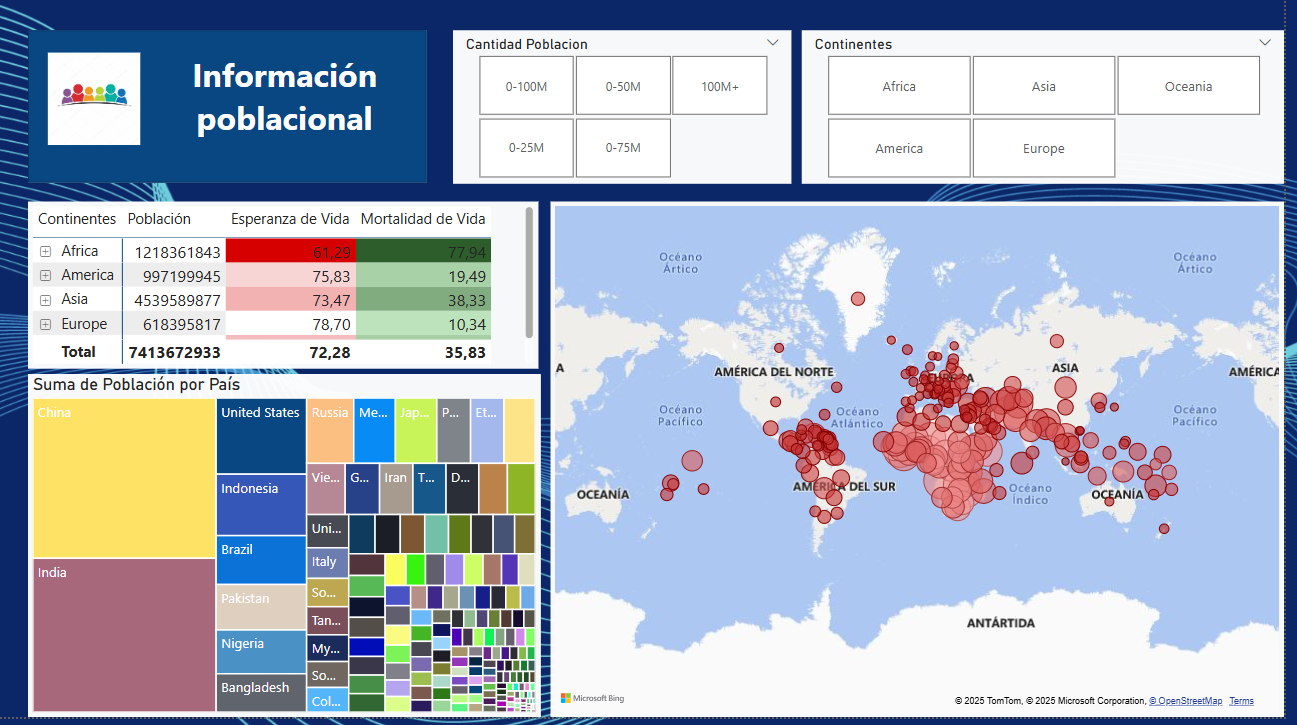

Layout of this report page (visuals, bound fields, positions):
{"tool":"powerbi","page":{"name":"Reporte 1","canvas":[1280,720],"ordinal":0},"visuals":[{"type":"shape","box":[30,36.7,396.7,151.7],"z":0},{"type":"pivotTable","fields":{"Values":["Sum(Population.Población)","Avg(Esperanza de Vida.Esperanza de Vida)","Avg(Mortalidad Infantil.Mortalidad de Vida)"],"Rows":["Countries.Jeraquia: Continente Y Pais.Continentes","Countries.Jeraquia: Continente Y Pais.País"]},"box":[30,206.7,508.3,166.7],"z":1000},{"type":"treemap","fields":{"Group":["Countries.País"],"Values":["Sum(Population.Población)"]},"box":[30,378.3,510,341.7],"z":2000},{"type":"slicer","fields":{"Values":["Population.Cantidad Poblacion"]},"box":[452.8,36.1,337.1,153],"z":3000},{"type":"slicer","fields":{"Values":["Countries.Continentes"]},"box":[799.9,36.1,480.2,153],"z":4000},{"type":"map","fields":{"Size":["Avg(Mortalidad Infantil.Mortalidad de Vida)"],"Category":["Countries.Jeraquia: Continente Y Pais.País"]},"box":[549.8,206.5,730.2,513.8],"z":5000},{"type":"image","box":[0,53.3,191.7,101.7],"z":6000},{"type":"textbox","box":[111.7,53.3,346.7,101.7],"z":7000}]}

Visuals, with their boxes in screenshot pixels (x1, y1, x2, y2), scaled from the page's 1280x720 canvas onto the 1297x725 screenshot:
shape: <box>30,37,432,190</box>
pivotTable - Sum(Population.Población) x Avg(Esperanza de Vida.Esperanza de Vida): <box>30,208,545,376</box>
treemap - Countries.País x Sum(Population.Población): <box>30,381,547,724</box>
slicer - Population.Cantidad Poblacion: <box>459,36,800,190</box>
slicer - Countries.Continentes: <box>811,36,1296,190</box>
map - Avg(Mortalidad Infantil.Mortalidad de Vida) x Countries.Jeraquia: Continente Y Pais.País: <box>557,208,1296,724</box>
image: <box>0,54,194,156</box>
textbox: <box>113,54,464,156</box>
